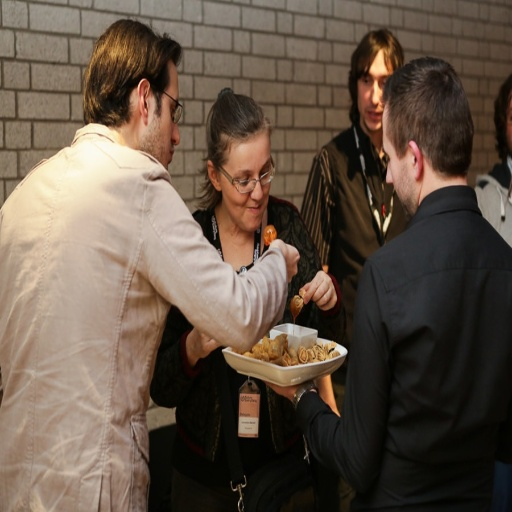hand: (296, 267, 340, 314), (266, 238, 299, 285), (188, 323, 223, 360), (261, 378, 311, 400)
